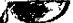Basket: (1, 0, 71, 23)
